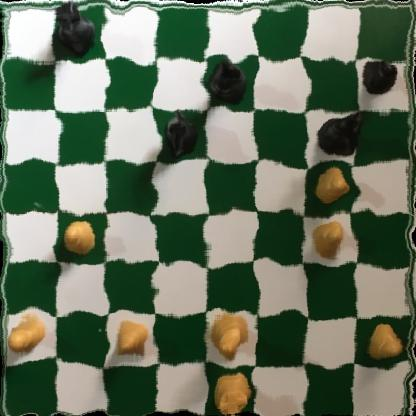black-bishop: (204, 58, 251, 109)
black-king: (313, 108, 364, 161)
black-knight: (156, 104, 202, 160)
black-pawn: (359, 56, 402, 97)
black-rook: (49, 0, 102, 55)
white-king: (205, 310, 250, 362)
white-pawn: (305, 217, 354, 256), (107, 319, 153, 360), (61, 217, 100, 259), (5, 313, 45, 353), (362, 327, 407, 362), (307, 169, 345, 205)
white-rook: (210, 363, 254, 416)
